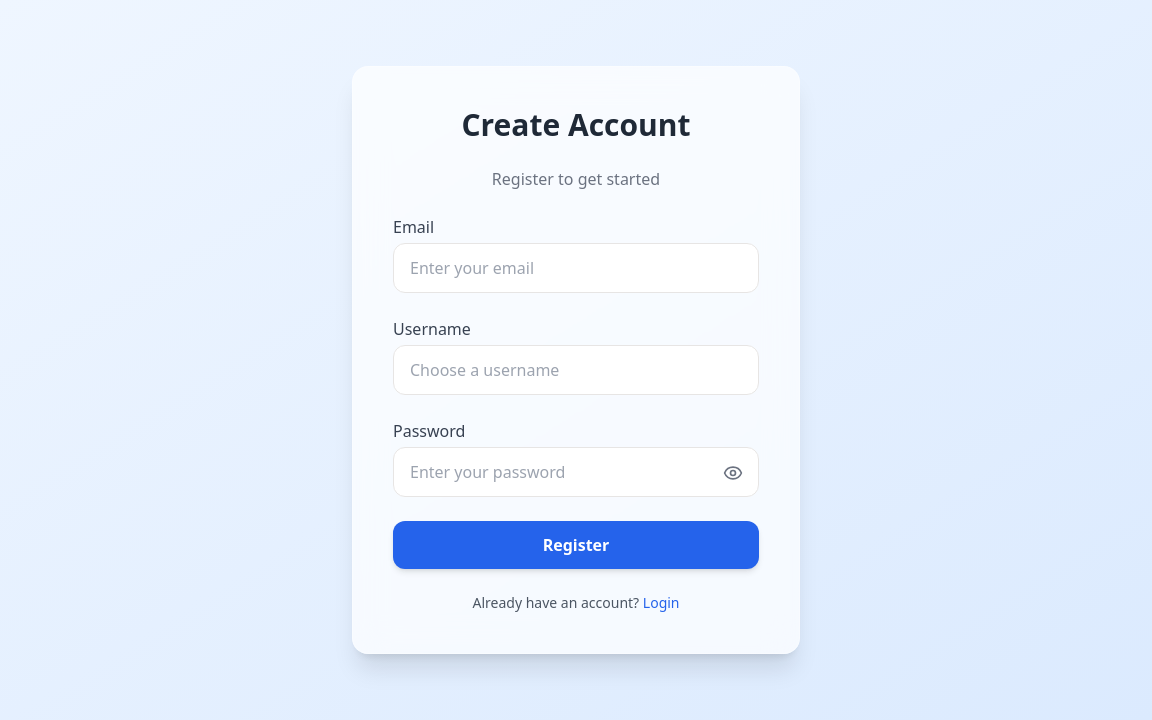
Test: RegistrationPage › displays error on registration failure
In the field with placeholder "Enter your email": point(576, 268) [393, 243, 759, 293], type "sam@sam.com"
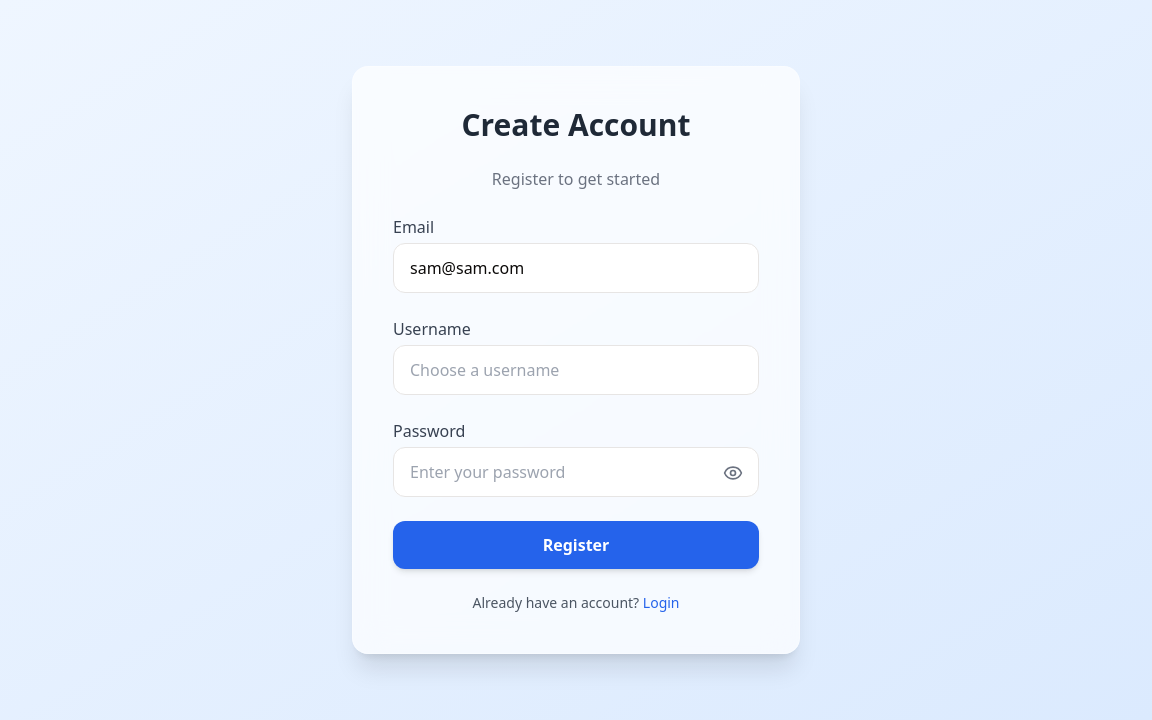
In the field with placeholder "Choose a username": point(576, 370) [393, 345, 759, 395], type "sam"
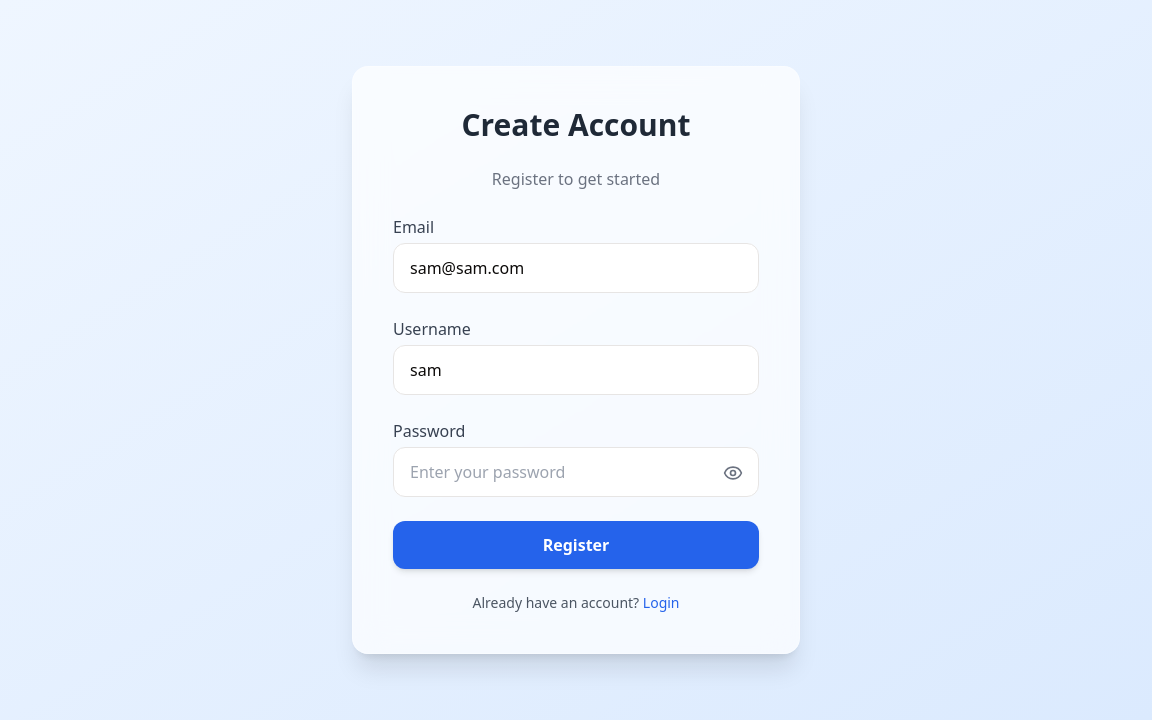
In the password field with placeholder "Enter your password": point(576, 472) [393, 447, 759, 497], type "password"
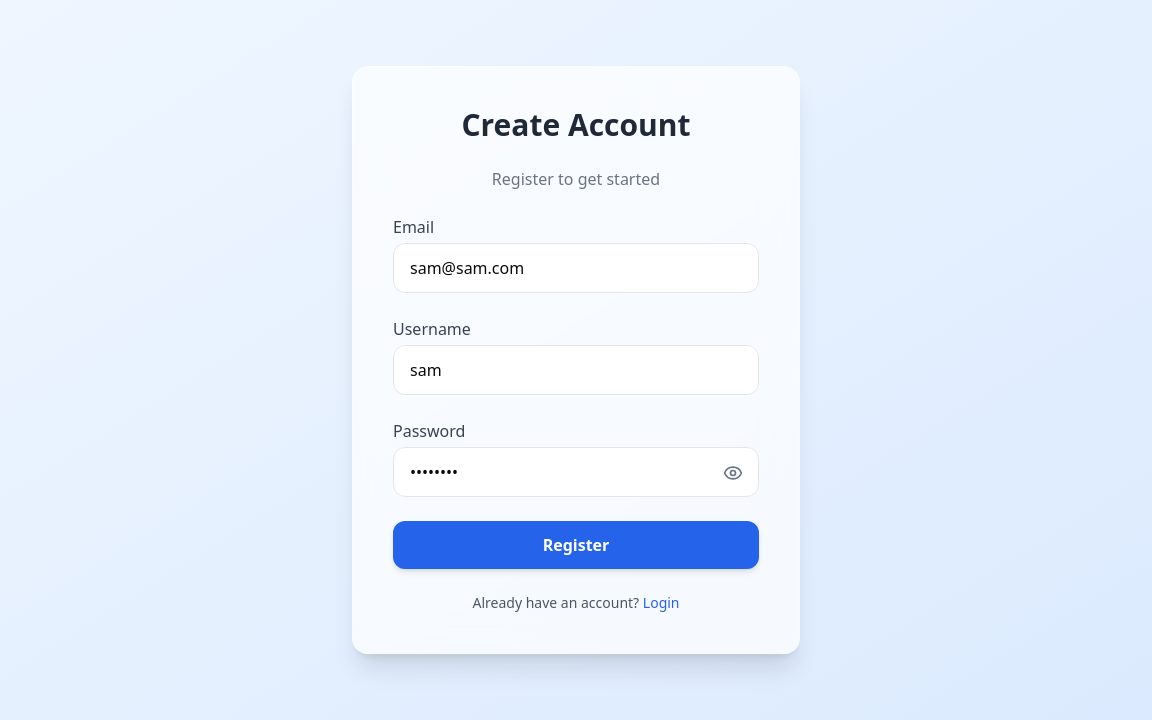
Click the button "Register": point(576, 545) [393, 521, 759, 569]
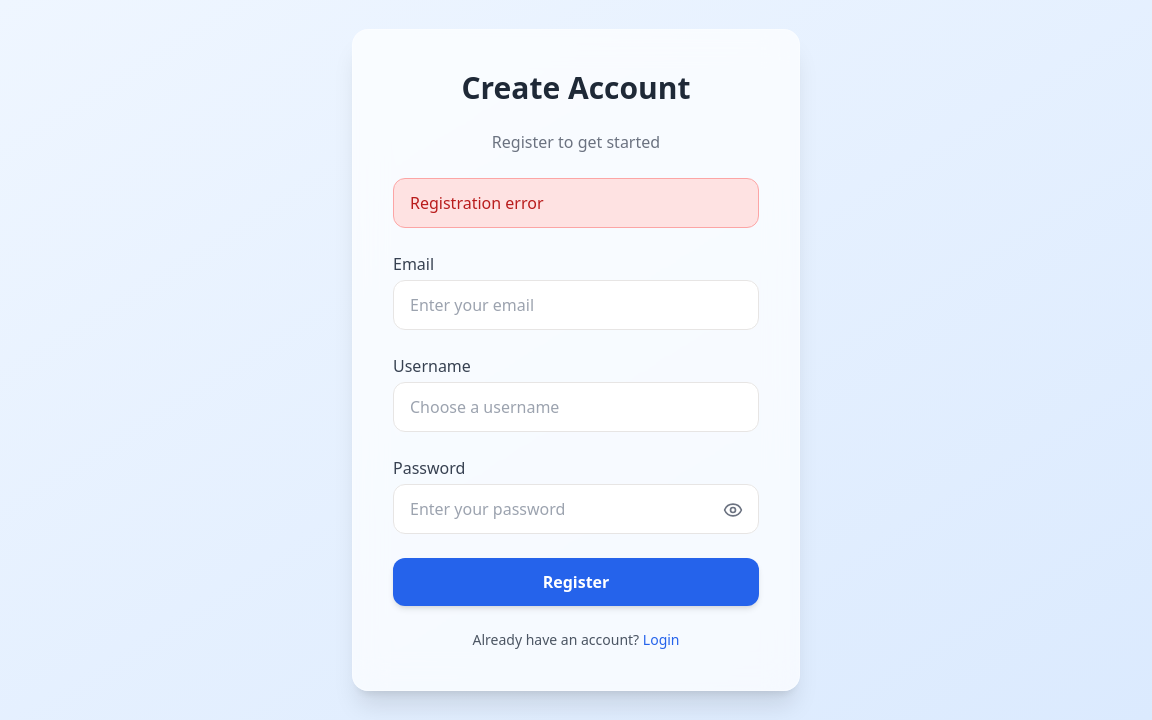
expect the text "Registration error" is shown: met, box [393, 178, 759, 228]
